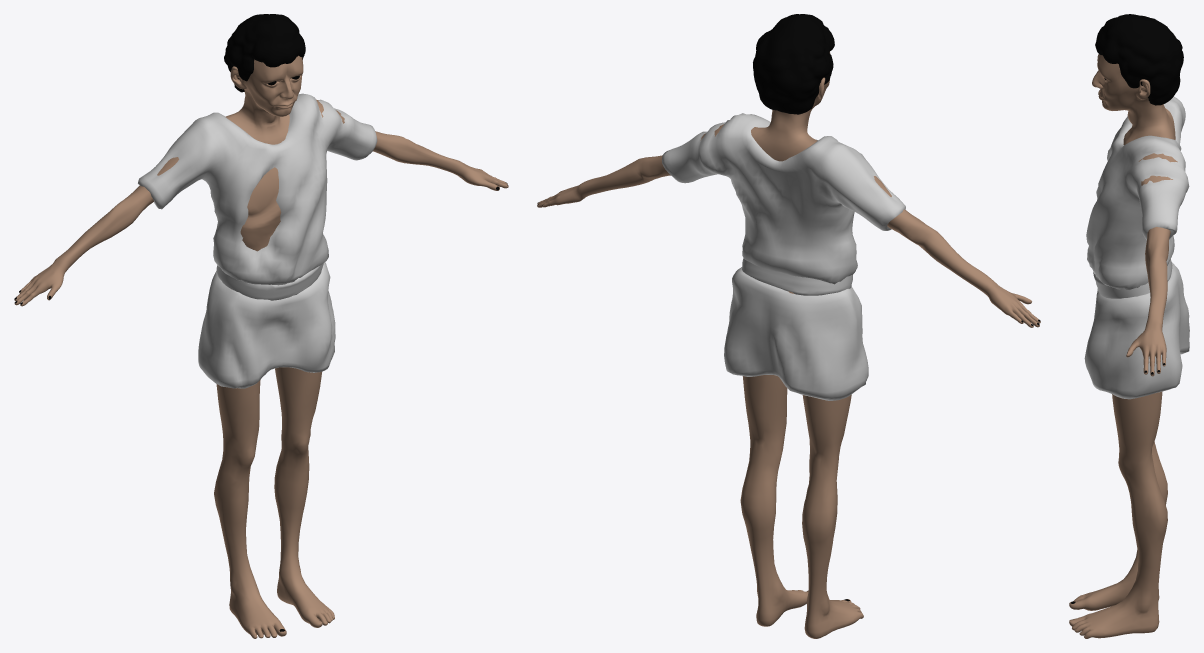
Rendered from Body_Body_Clothes_LP.fbx.
3 views of the same model, side by side, from view 1: azimuth 30°, elevation 25°; view 2: azimuth 150°, elevation 25°; view 3: azimuth 270°, elevation 25° (orthographic).
Visible parts, largest first — view 1: Bodo_Clothes_LP, Bodo_LP; view 2: Bodo_Clothes_LP, Bodo_LP; view 3: Bodo_LP, Bodo_Clothes_LP.
Part boxes in pixels (x1=…): Bodo_Clothes_LP: x1=138, y1=93, x2=377, y2=388; Bodo_LP: x1=14, y1=14, x2=508, y2=638; Bodo_Clothes_LP: x1=662, y1=113, x2=905, y2=400; Bodo_LP: x1=537, y1=14, x2=1040, y2=638; Bodo_LP: x1=1069, y1=14, x2=1183, y2=638; Bodo_Clothes_LP: x1=1084, y1=96, x2=1189, y2=399.
Bounding box in the file's own units: 134 × 155 × 28.05.
